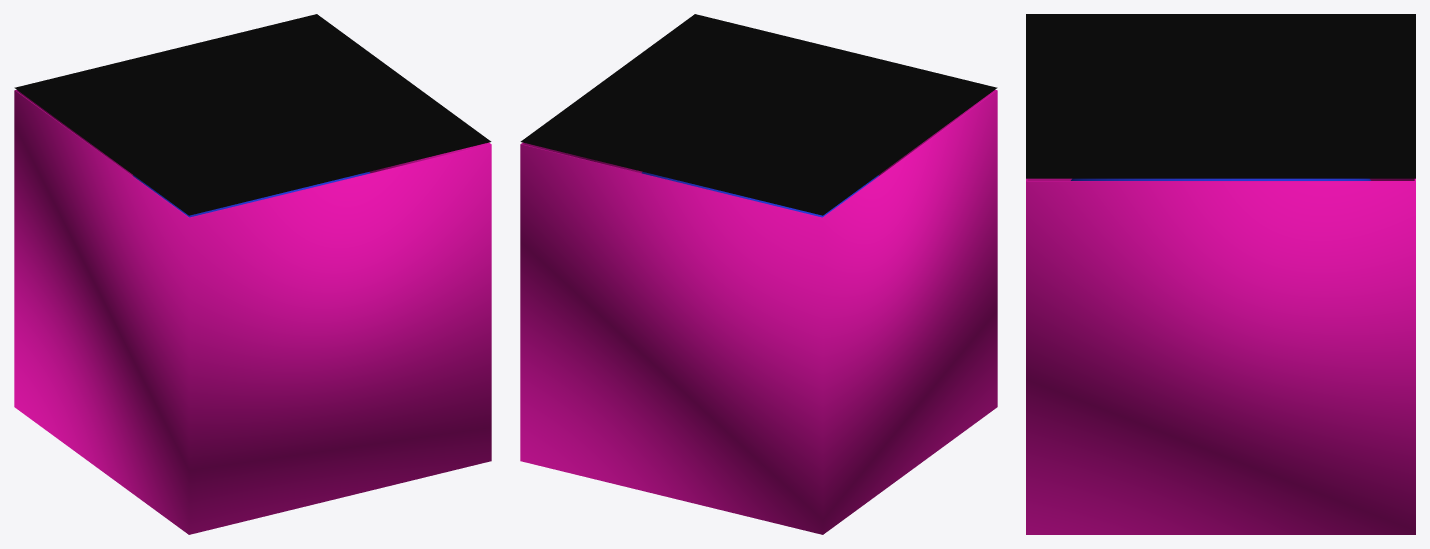
Rendered from transtiger.fbx.
3 renders of one model, left to right at view 1: azimuth 30°, elevation 25°; view 2: azimuth 150°, elevation 25°; view 3: azimuth 270°, elevation 25°, orthographic. The views are drawn at different scales.
Visible parts, largest first — view 1: Cube, Cube.001, Sphere; view 2: Cube, Cube.001, Sphere; view 3: Cube, Cube.001, Sphere.
Part boxes in pixels (x1,y1,x2,y2): Cube: (14,90,491,534); Cube.001: (14,14,491,215); Sphere: (133,172,370,217); Cube: (520,90,997,534); Cube.001: (520,14,997,215); Sphere: (641,172,878,217); Cube: (1026,178,1415,534); Cube.001: (1026,14,1415,178); Sphere: (1071,178,1370,180).
Size of the model in its own units: 2 by 2.18 by 2.
3 materials, 1 textured.
